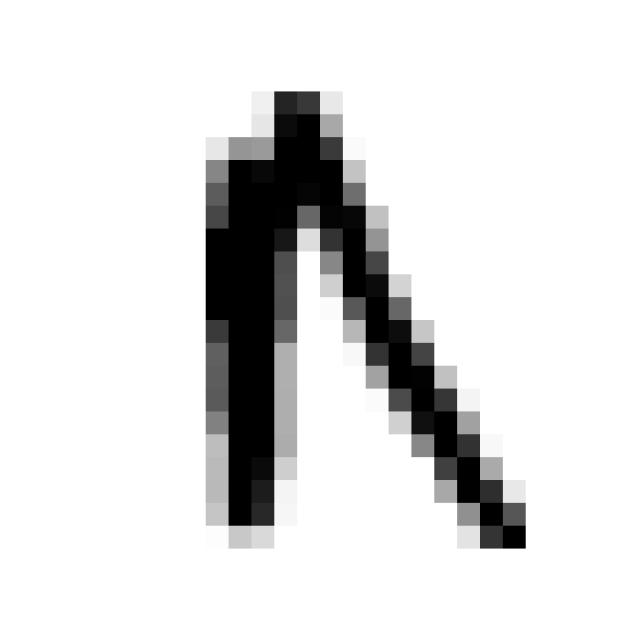8 -eight-: (176, 62, 551, 570)
